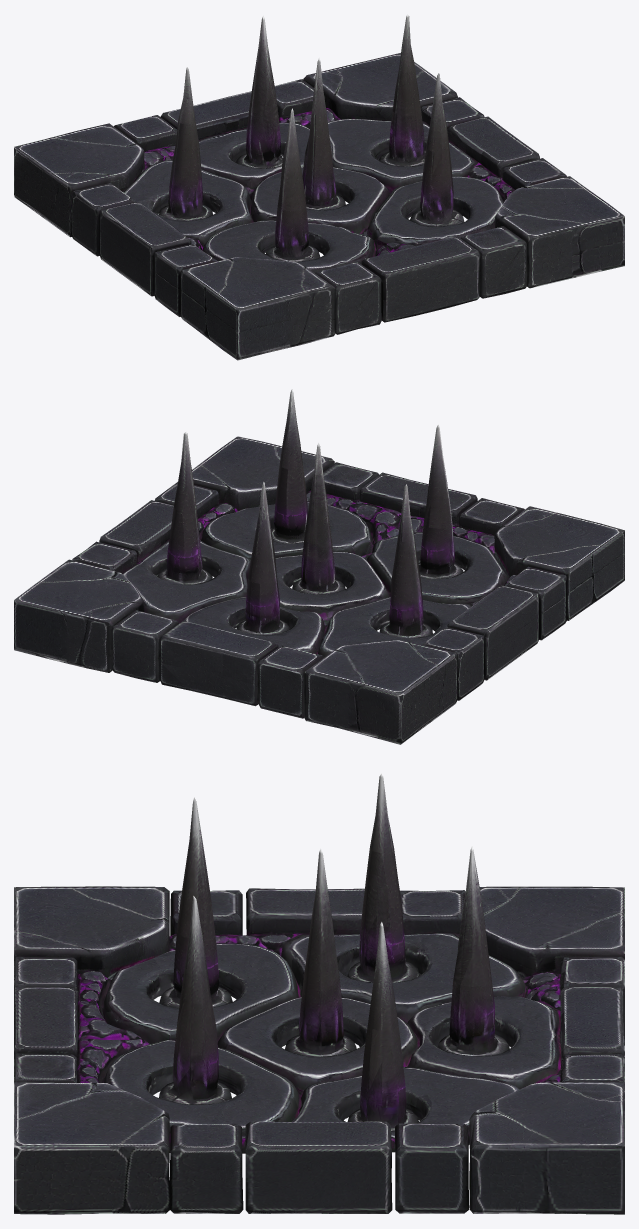
File: spike_sprung.glb
The picture shows the model from 3 angles, top to bottom: view 1: azimuth 30°, elevation 25°; view 2: azimuth 150°, elevation 25°; view 3: azimuth 270°, elevation 25°; orthographic projection. The views are drawn at different scales.
Bounding box in the file's own units: 1 × 0.4336 × 1.
Materials: 1 (1 with a texture image).
